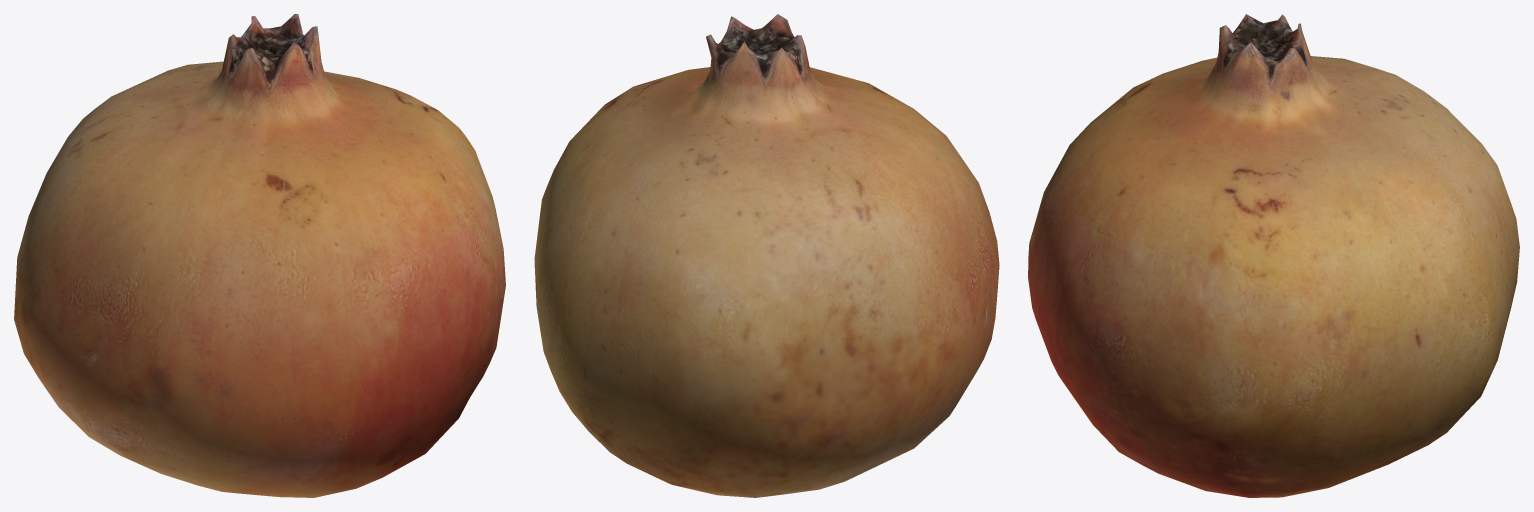
The model's file is 24_pomegranate_white.glb.
The picture shows the model from 3 angles, left to right: view 1: azimuth 30°, elevation 25°; view 2: azimuth 150°, elevation 25°; view 3: azimuth 270°, elevation 25°; orthographic projection. The views are drawn at different scales.
Visible parts, largest first — view 1: 24_pomegranate; view 2: 24_pomegranate; view 3: 24_pomegranate.
Boxes of the visible parts, x1,y1,x2,y2 form: 24_pomegranate: (14, 14, 505, 497); 24_pomegranate: (534, 14, 999, 497); 24_pomegranate: (1028, 14, 1519, 497).
Bounding box in the file's own units: 0.996 × 0.9918 × 0.9999.
Materials: 1 (1 with a texture image).
